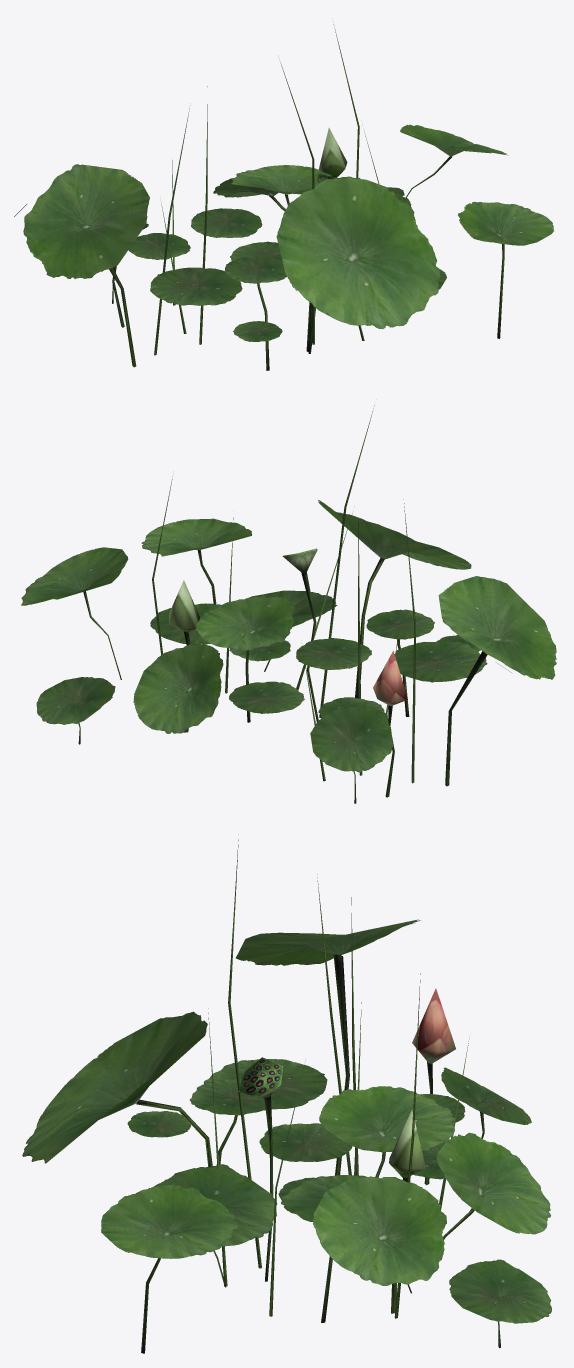
The model's file is wm_灌木荷花03.fbx.
3 renders of one model, top to bottom at view 1: azimuth 30°, elevation 25°; view 2: azimuth 150°, elevation 25°; view 3: azimuth 270°, elevation 25°, orthographic. The views are drawn at different scales.
Parts seen in each view (by area): view 1: wm_灌木荷花03; view 2: wm_灌木荷花03; view 3: wm_灌木荷花03.
Part boxes in pixels (box(x1,y1,x2,y2)): wm_灌木荷花03: box(14, 24, 553, 370); wm_灌木荷花03: box(21, 405, 556, 803); wm_灌木荷花03: box(22, 834, 551, 1353).
Bounding box in the file's own units: 376 × 236 × 277.
